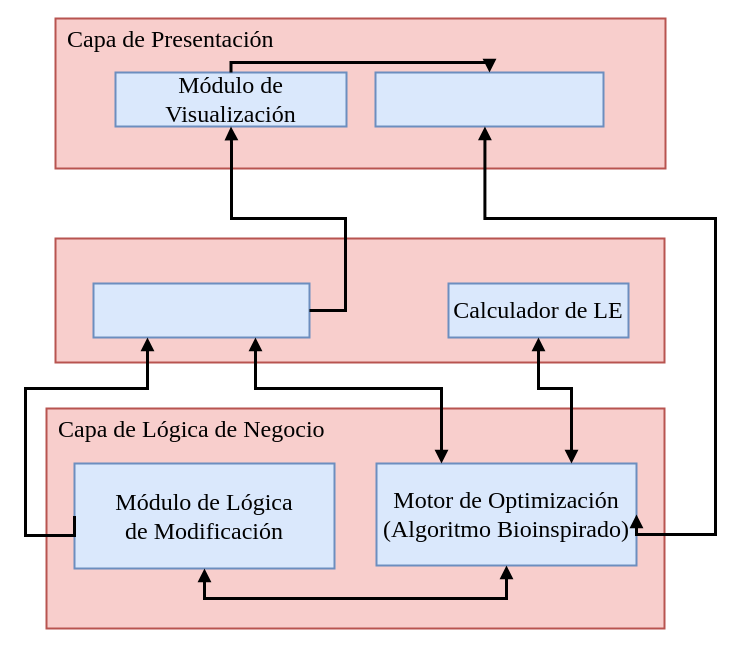
This 743x646 diagram has some shape labels left out. Here are the shapes that lost their labels. From the top down, the box of each, then its label:
(374, 71, 604, 127): Interfaz de Usuario (UI)
(92, 282, 310, 338): Simulador (REBOUND)
(54, 237, 665, 363): Capa de Simulación
